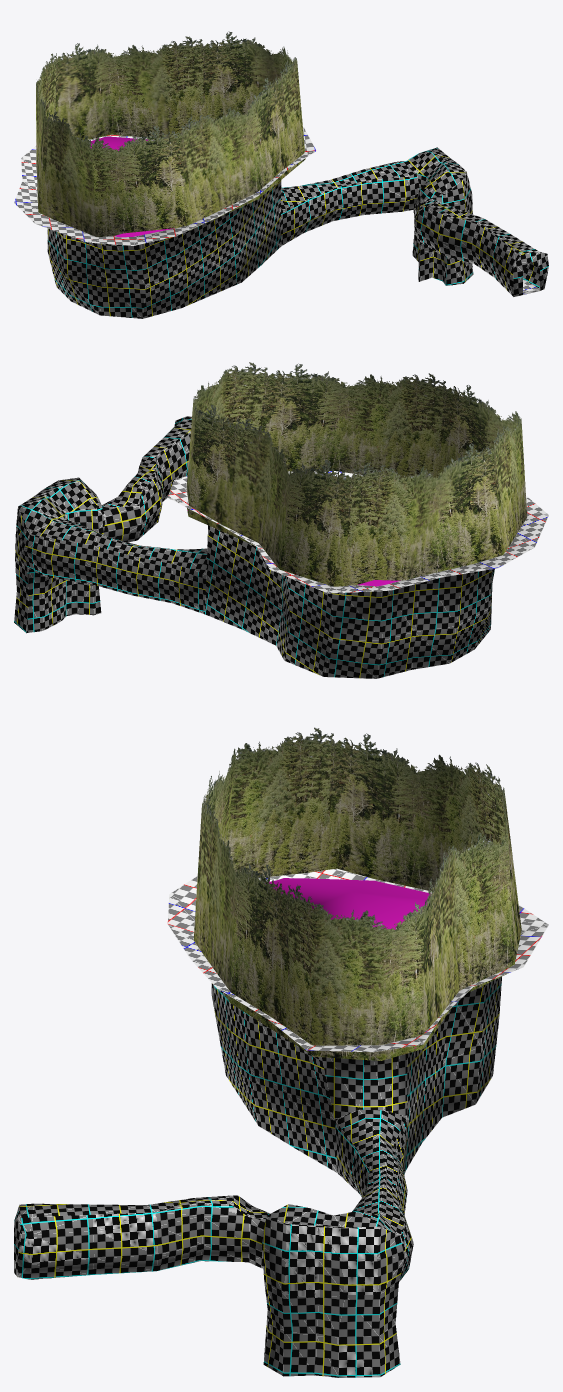
File: map.obj
3 views of the same model, one above another, from view 1: azimuth 30°, elevation 25°; view 2: azimuth 150°, elevation 25°; view 3: azimuth 270°, elevation 25° (orthographic). The views are drawn at different scales.
Parts seen in each view (by area): view 1: main.003; view 2: main.003; view 3: main.003.
Boxes of the visible parts, x1,y1,x2,y2 form: main.003: [14, 31, 548, 318]; main.003: [14, 362, 548, 678]; main.003: [14, 727, 548, 1377].
Size of the model in its own units: 51.79 by 30.73 by 38.46.
